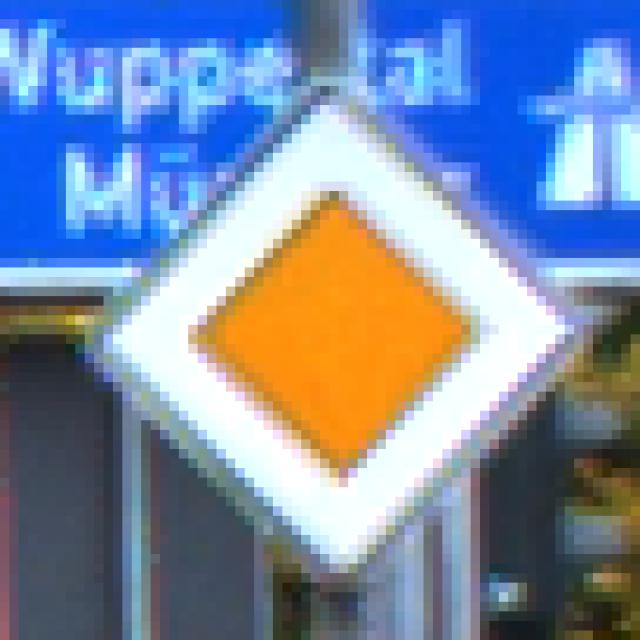Main Road: (67, 58, 584, 584)
